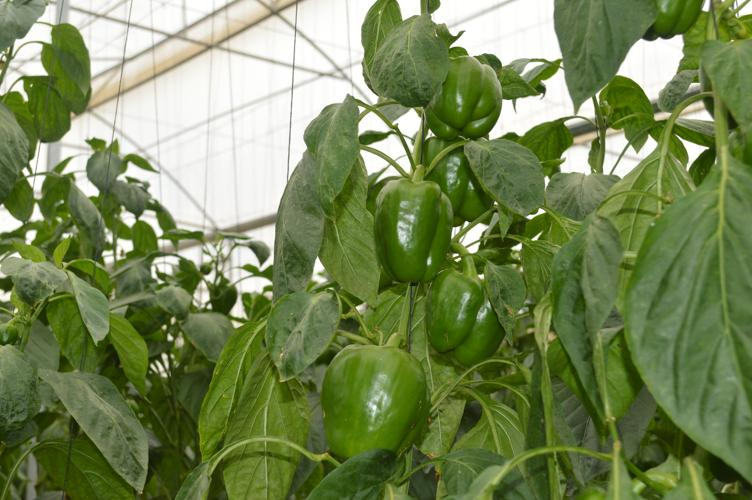BellPepper: (314, 336, 432, 467), (363, 171, 470, 296), (416, 258, 512, 369), (419, 35, 510, 137), (416, 133, 488, 220)
